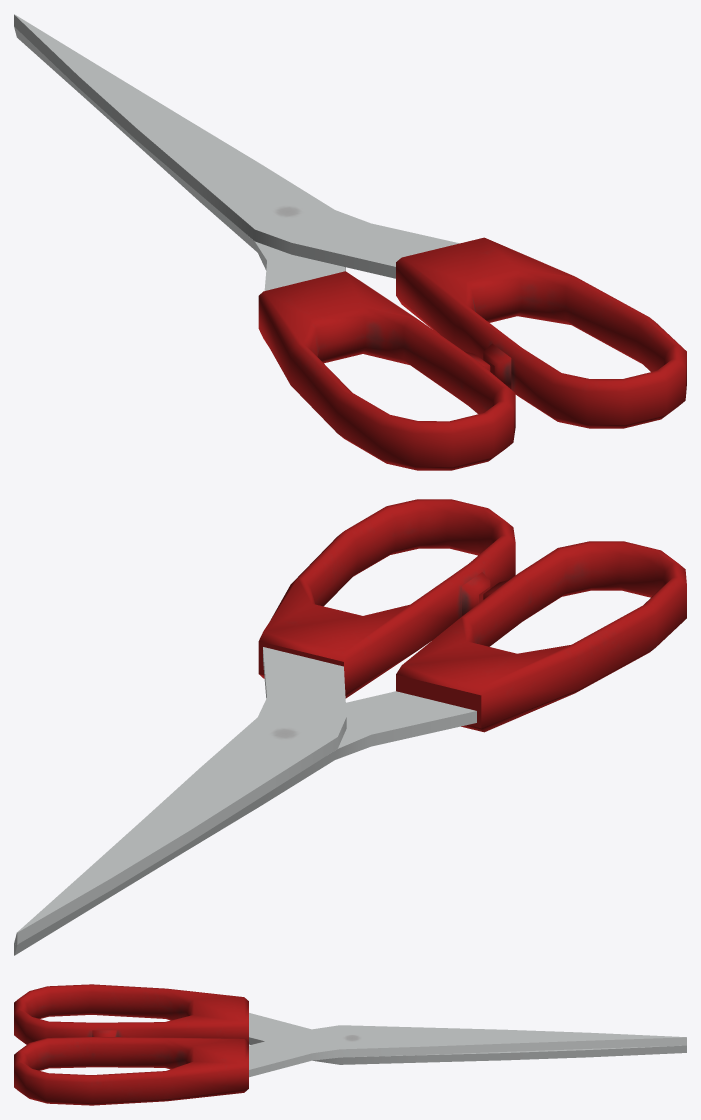
Rendered from ScissorsA.fbx.
The picture shows the model from 3 angles, top to bottom: view 1: azimuth 30°, elevation 25°; view 2: azimuth 150°, elevation 25°; view 3: azimuth 270°, elevation 25°; orthographic projection. The views are drawn at different scales.
Visible parts, largest first — view 1: ScissorsA; view 2: ScissorsA; view 3: ScissorsA.
Part boxes in pixels (<box>): ScissorsA: <box>14,14,686,470</box>; ScissorsA: <box>14,499,686,955</box>; ScissorsA: <box>14,984,686,1105</box>.
Size of the model in its own units: 7.09 by 1 by 20.97.
